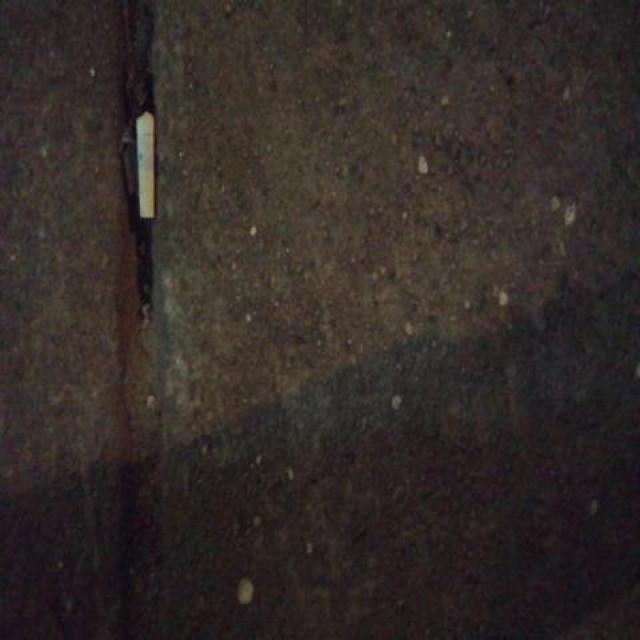non-organic waste: (133, 106, 158, 222)
